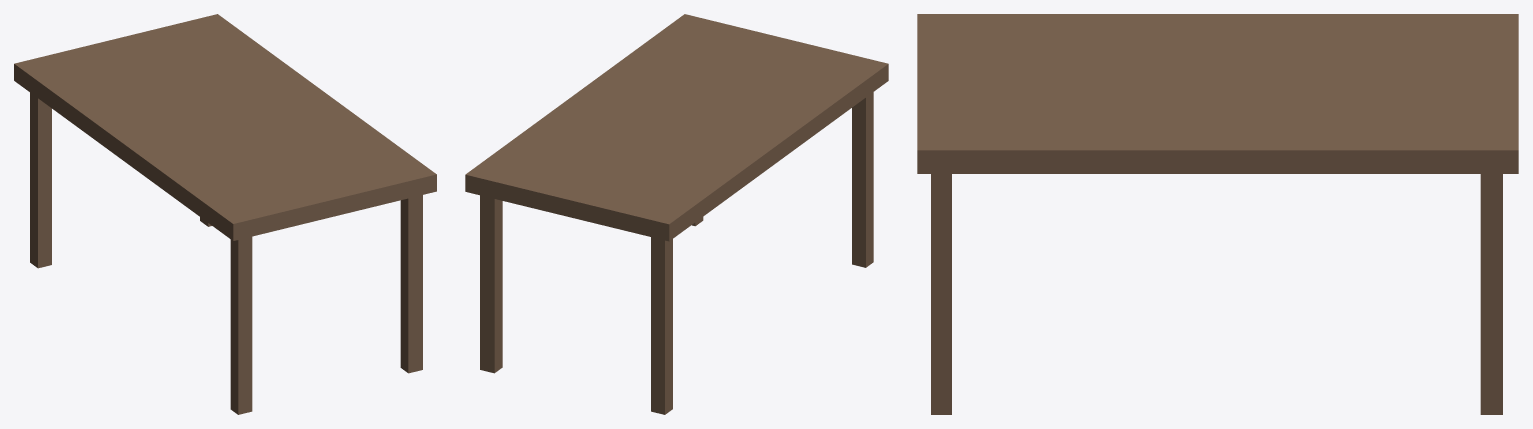
File: table.fbx
The picture shows the model from 3 angles, left to right: view 1: azimuth 30°, elevation 25°; view 2: azimuth 150°, elevation 25°; view 3: azimuth 270°, elevation 25°; orthographic projection. The views are drawn at different scales.
Visible parts, largest first — view 1: Table; view 2: Table; view 3: Table.
Boxes of the visible parts, <box> form: Table: <box>14,14,436,414</box>; Table: <box>465,14,888,414</box>; Table: <box>917,14,1518,414</box>.
Size of the model in its own units: 170 by 157 by 316.
